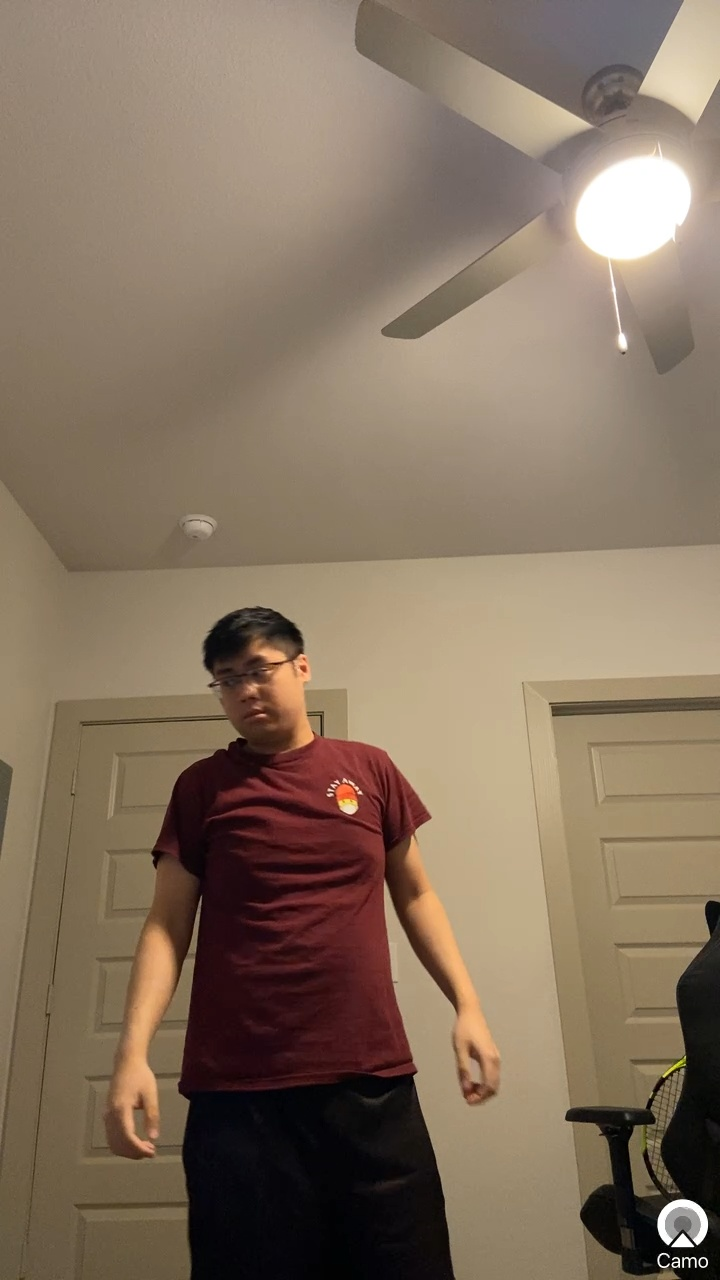Person: (79, 589, 543, 1271)
